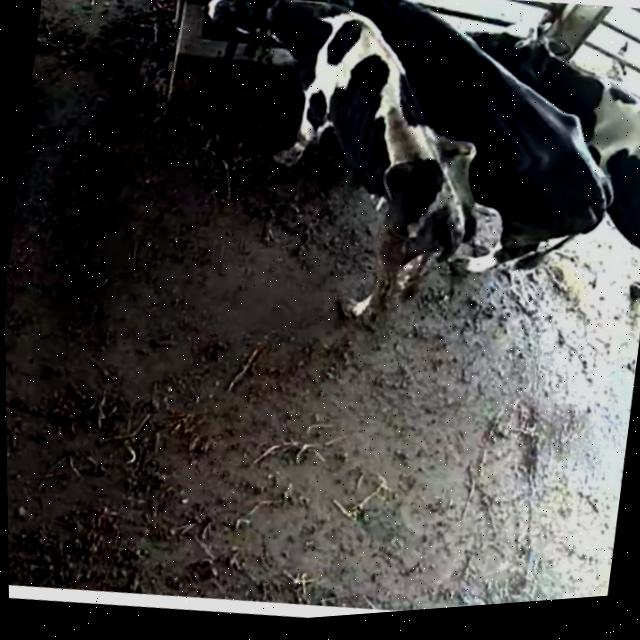drink: (318, 0, 473, 72)
